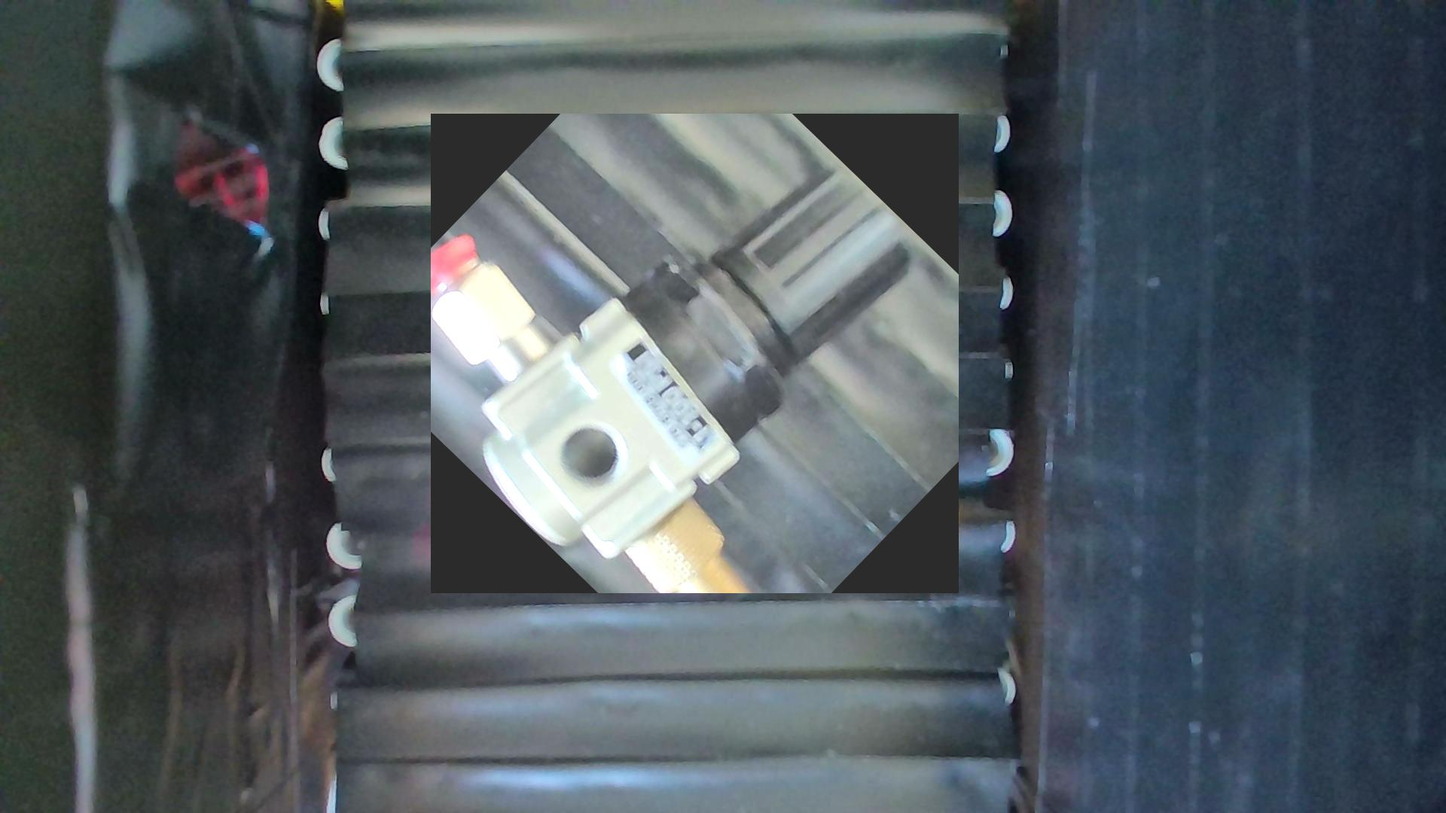regulator: (431, 114, 959, 593)
